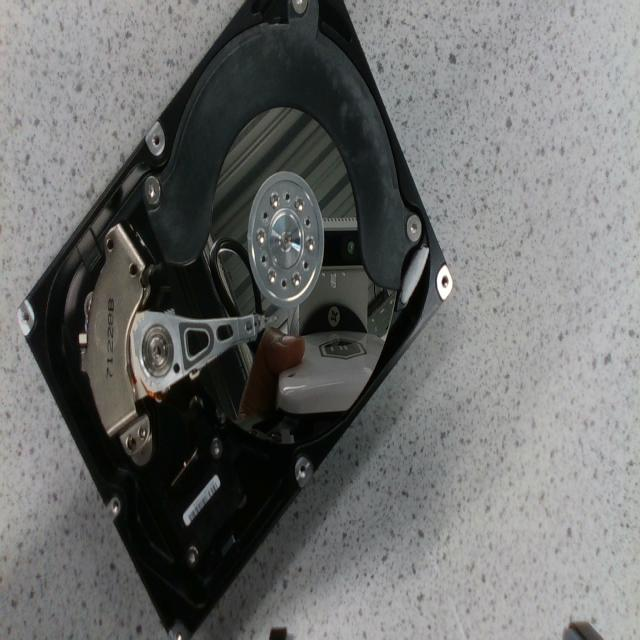actuator arm: (130, 310, 278, 393)
actuator axis: (142, 326, 172, 377)
case: (18, 0, 452, 637)
magnet: (82, 223, 149, 436)
pcb connector: (159, 436, 245, 570)
platter: (164, 109, 396, 442)
platter holder: (248, 172, 324, 309)
platter protector: (146, 0, 422, 288)
screw: (144, 176, 160, 212), (406, 214, 422, 243), (210, 437, 222, 460), (186, 546, 198, 567), (292, 0, 308, 14), (256, 228, 266, 245), (270, 191, 278, 209), (295, 196, 304, 211), (268, 269, 276, 284), (306, 236, 314, 250), (292, 273, 300, 286)
